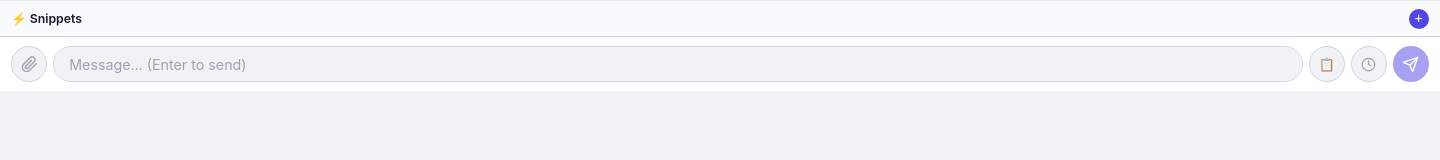
Test: InputBar clipboard button › attaches an image the clipboard button reads
The width and height of the screenshot is (1440, 160).
Click the button named "Paste from clipboard".
click(1327, 64)  # box [1309,46,1345,82]
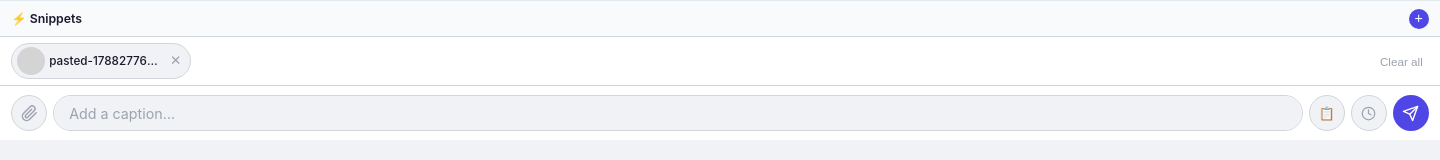
Now the text "pasted-1788277640852.png" is shown, box [49,54,164,68]
